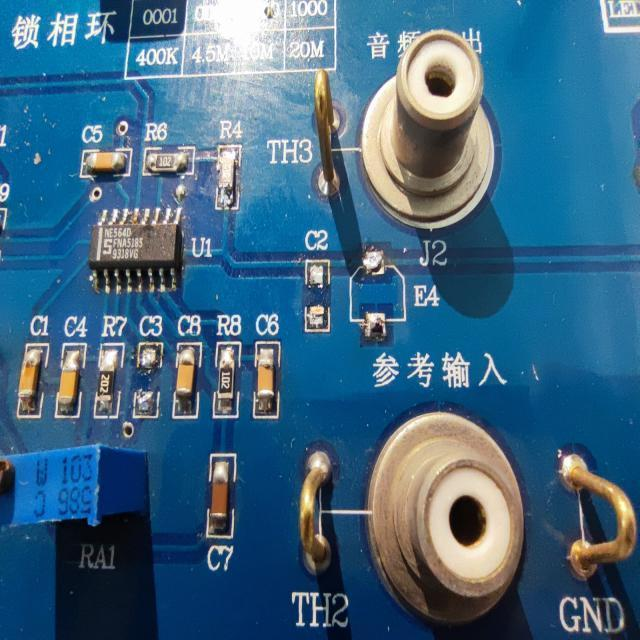Missing component: (344, 242, 440, 347), (298, 224, 337, 340), (132, 312, 164, 423)
